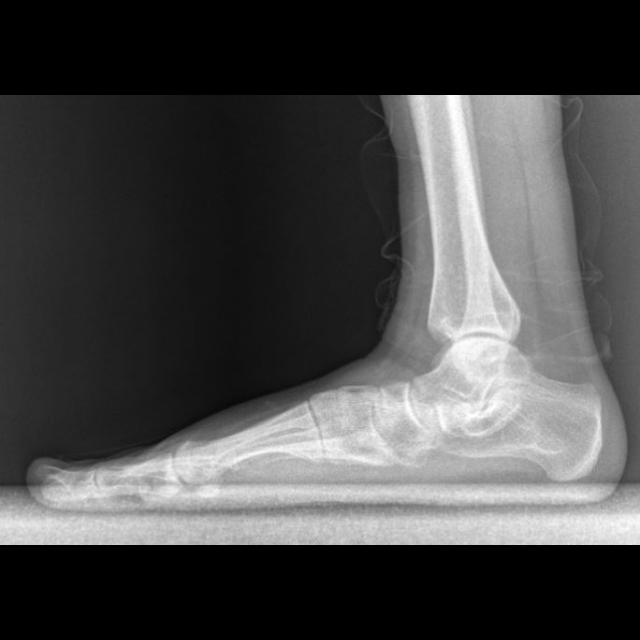a: (441, 367, 604, 480)
b: (374, 377, 434, 452)
c: (173, 401, 322, 484)
